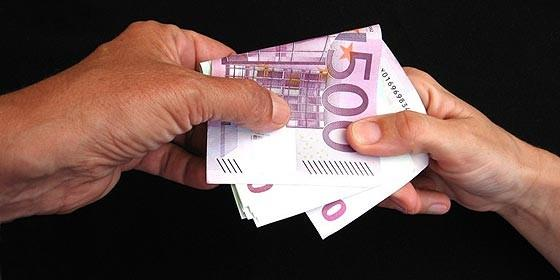billete: (197, 21, 432, 242)
